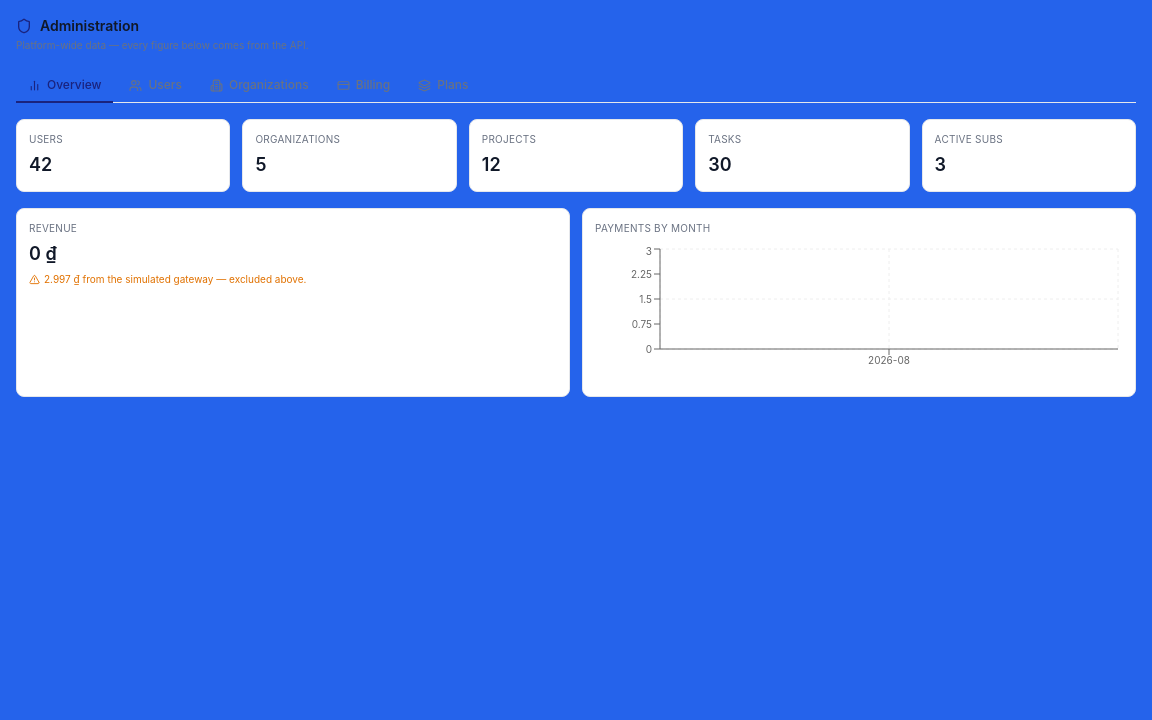
Test case: AdministrationCenter › asks how long the ban lasts instead of suspending immediately
Click the tab "Users" at [156, 86], box [118,69,194,103]
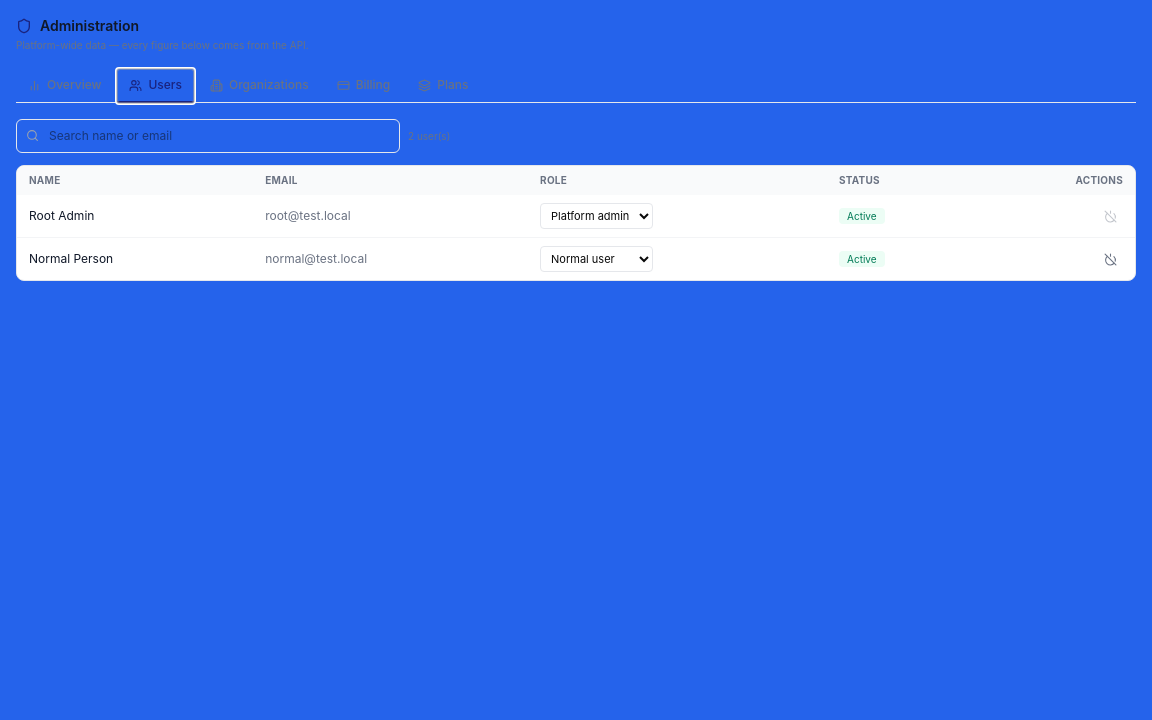
Result: the text "normal@test.local" is shown at [253,238,528,280]
Click the button named "deactivate normal person" at [1110, 259], box [1098,247,1123,272]
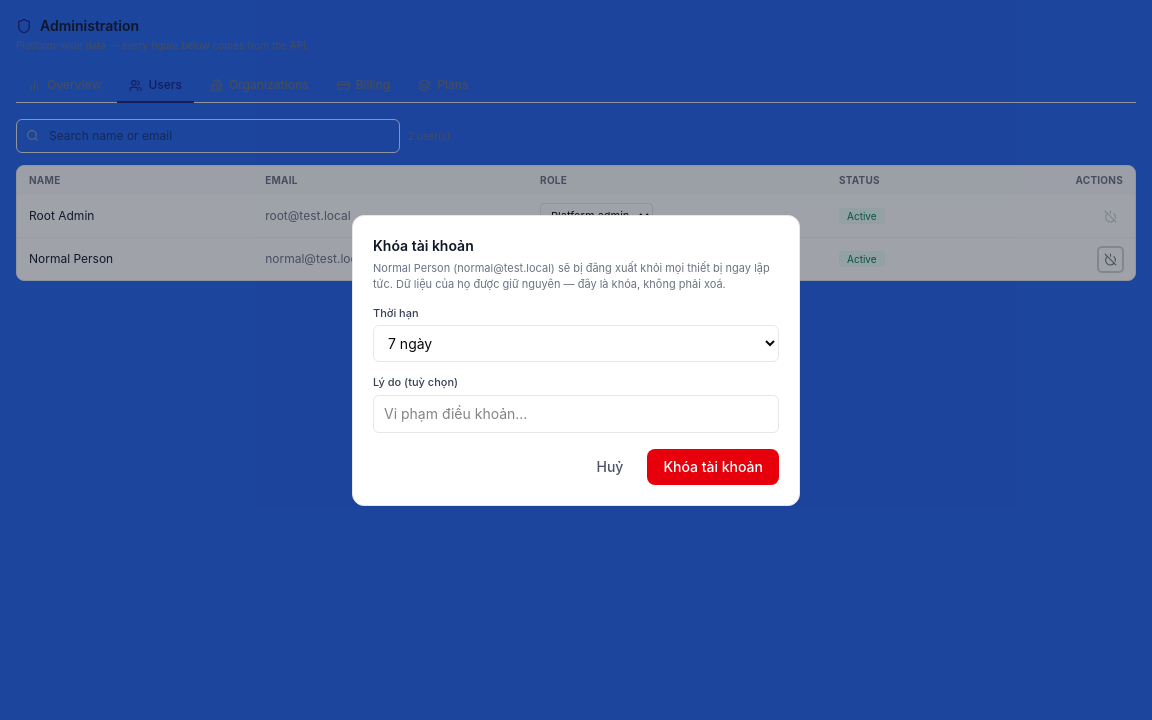
Result: the dialog "Khóa tài khoản" is shown
Result: the dropdown labelled "Thời hạn" is shown at [373,325,779,362]
